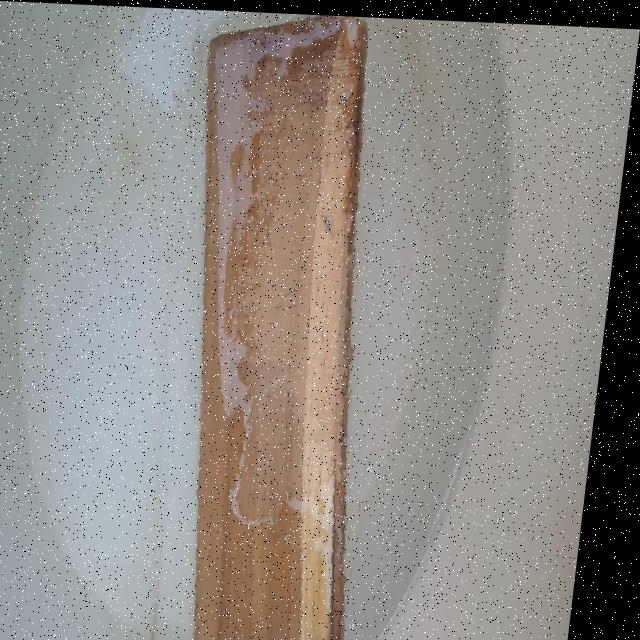wood: (125, 6, 418, 640)
